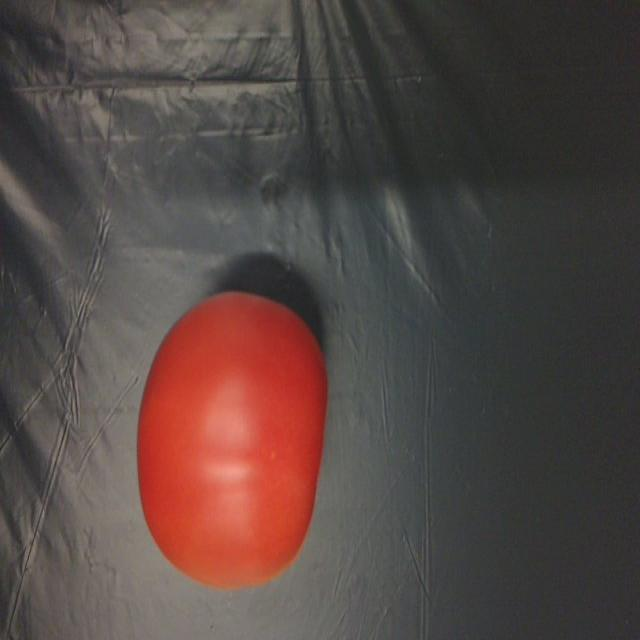kirmizi: (133, 255, 336, 600)
